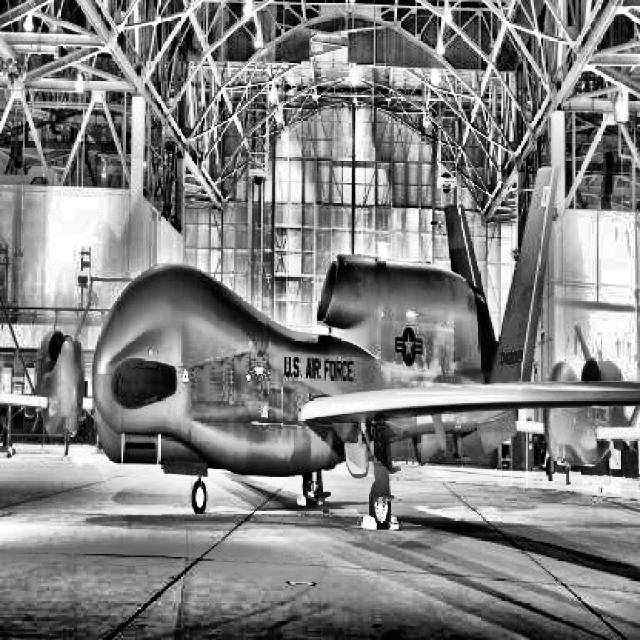RQ4: (92, 164, 638, 530), (515, 326, 640, 485), (0, 293, 102, 456)
